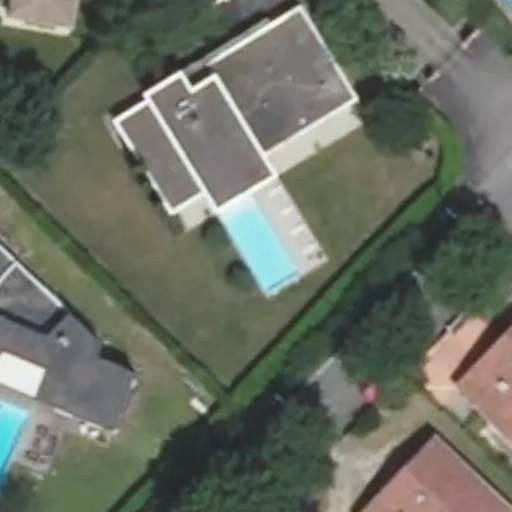pool: (213, 210, 298, 273)
